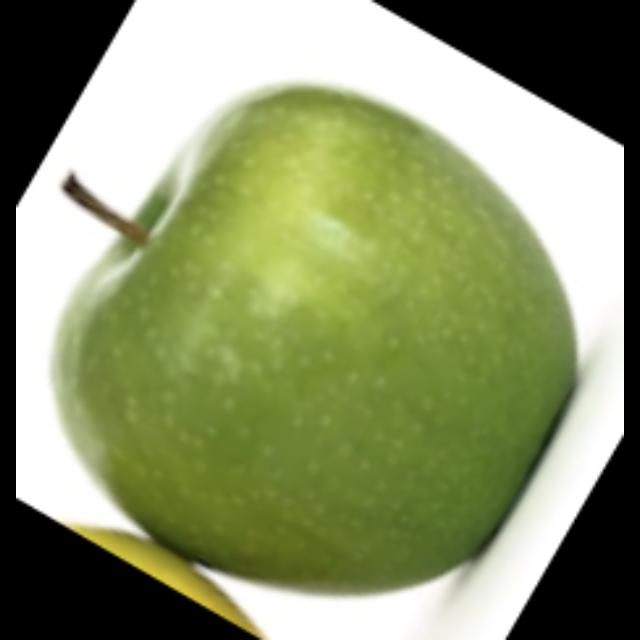Apel Segar: (50, 79, 580, 598)
